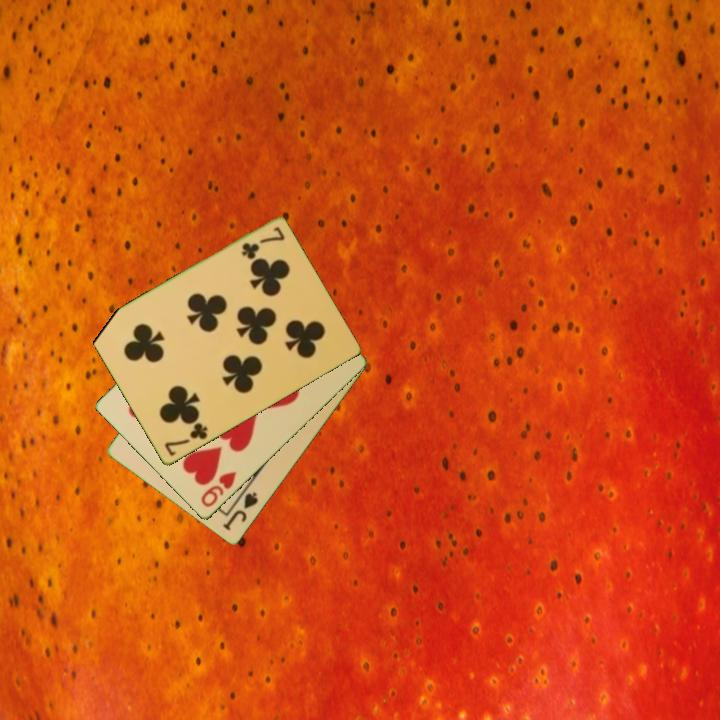7c: (161, 419, 211, 459), (238, 224, 288, 262)
9h: (197, 468, 239, 510)
Js: (219, 488, 261, 534)
